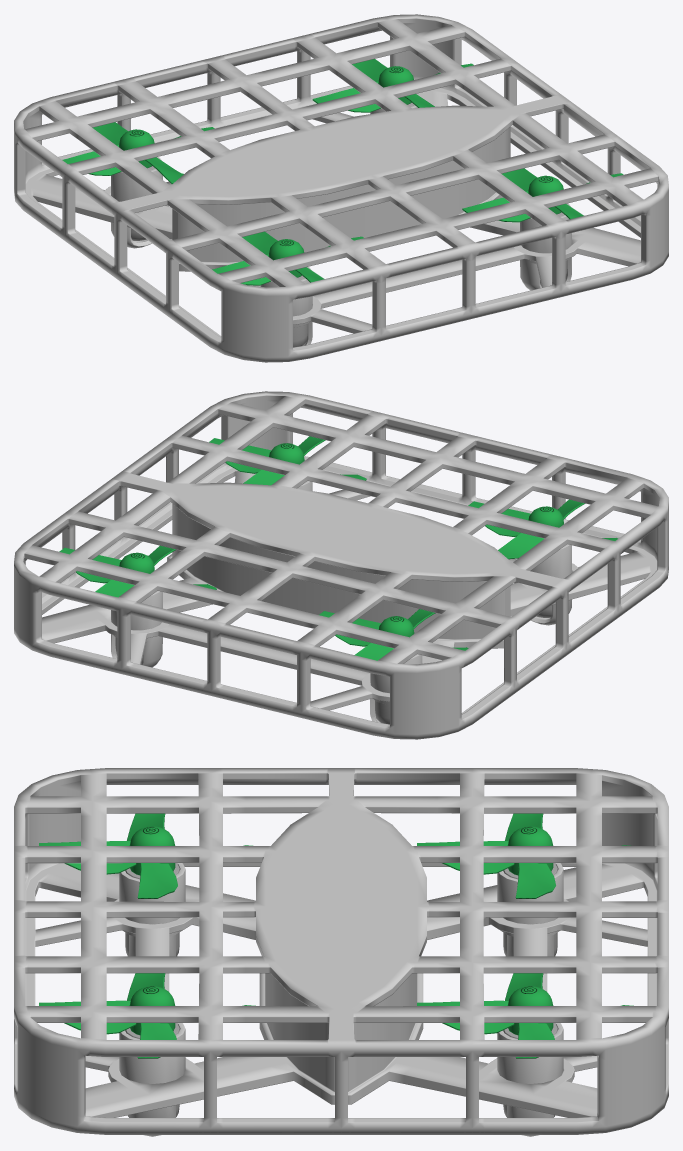
Rendered from drone2.obj.
3 renders of one model, top to bottom at view 1: azimuth 30°, elevation 25°; view 2: azimuth 150°, elevation 25°; view 3: azimuth 270°, elevation 25°, orthographic. The views are drawn at different scales.
Visible parts, largest first — view 1: drone; view 2: drone; view 3: drone.
Part boxes in pixels (x1,y1,x2,y2): drone: (14,14,668,362); drone: (14,391,668,739); drone: (14,768,668,1136).
Size of the model in its own units: 10.37 by 2.56 by 10.37.
